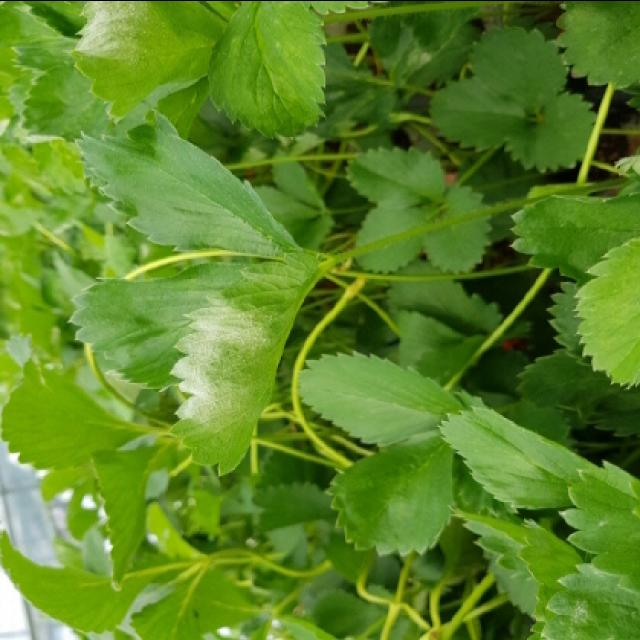Powdery Mildew Leaf: (168, 247, 326, 478), (69, 0, 229, 128), (539, 560, 638, 638)
